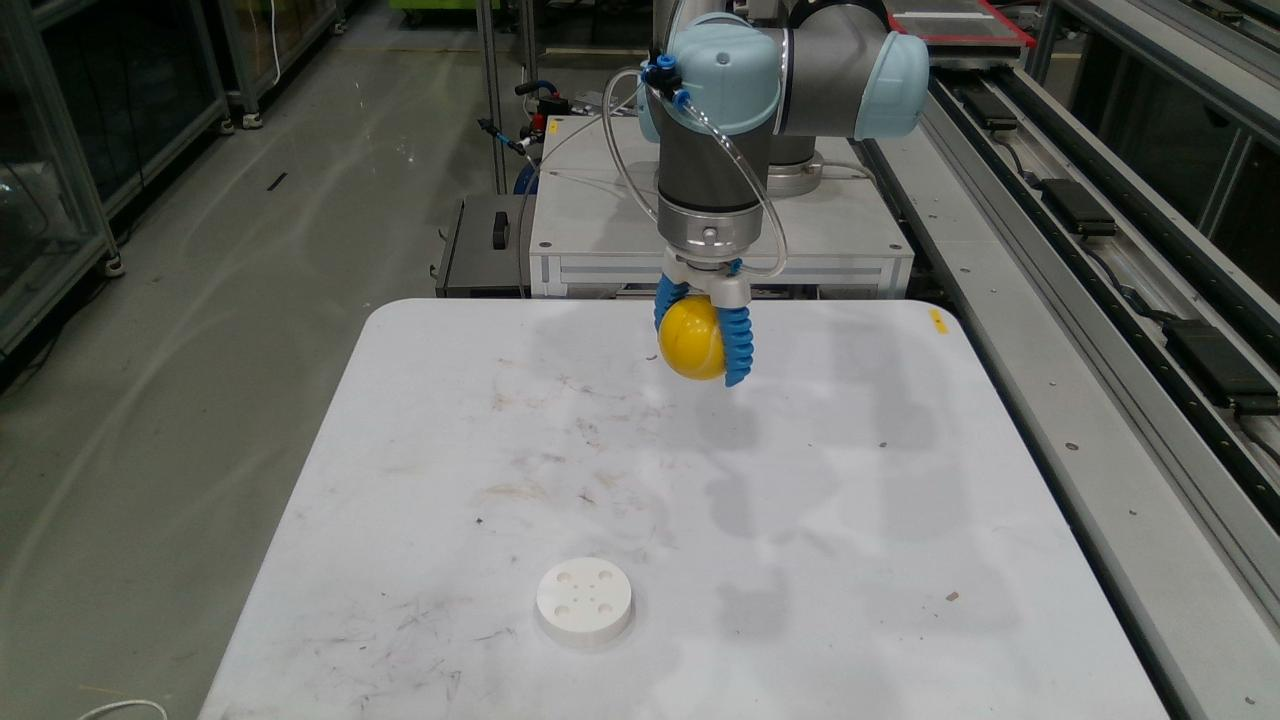UR5: (635, 0, 929, 310)
gripper_left: (653, 273, 688, 331)
gripper_right: (717, 305, 754, 386)
target: (536, 557, 634, 649), (658, 295, 725, 380)
